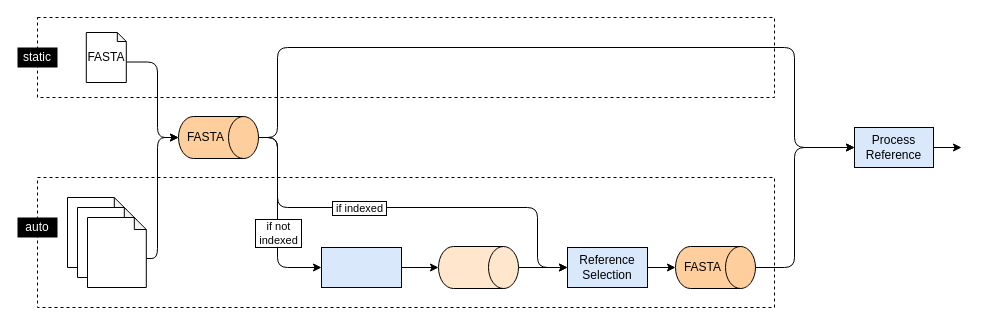
The diagram is 987 pixels wide and 325 high, and some of its shapes have lost their labels. Here are the shapes that lost their labels. From the top down, the box of each, then its label:
(86, 216, 146, 288): FASTA Database
(320, 246, 402, 288): Reference DB index
(438, 246, 518, 288): KMA INDEX
